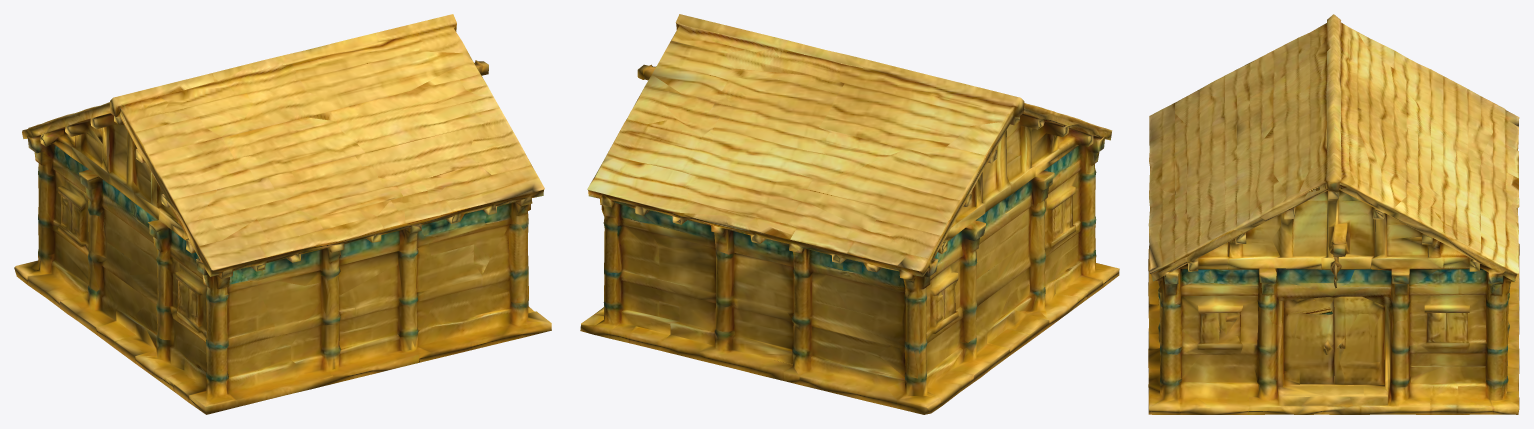
File: storage_gold.glb
3 renders of one model, left to right at view 1: azimuth 30°, elevation 25°; view 2: azimuth 150°, elevation 25°; view 3: azimuth 270°, elevation 25°, orthographic. The views are drawn at different scales.
Visible parts, largest first — view 1: tripo_node_673c3c4f-566e-4dac-93a3-dd77642dec3f; view 2: tripo_node_673c3c4f-566e-4dac-93a3-dd77642dec3f; view 3: tripo_node_673c3c4f-566e-4dac-93a3-dd77642dec3f.
Boxes of the visible parts, bbox=[...] form: tripo_node_673c3c4f-566e-4dac-93a3-dd77642dec3f: bbox=[14, 14, 551, 414]; tripo_node_673c3c4f-566e-4dac-93a3-dd77642dec3f: bbox=[580, 14, 1119, 414]; tripo_node_673c3c4f-566e-4dac-93a3-dd77642dec3f: bbox=[1148, 14, 1519, 414].
Bounding box in the file's own units: 0.9799 × 0.61 × 0.8571.
1 material, 1 textured.
